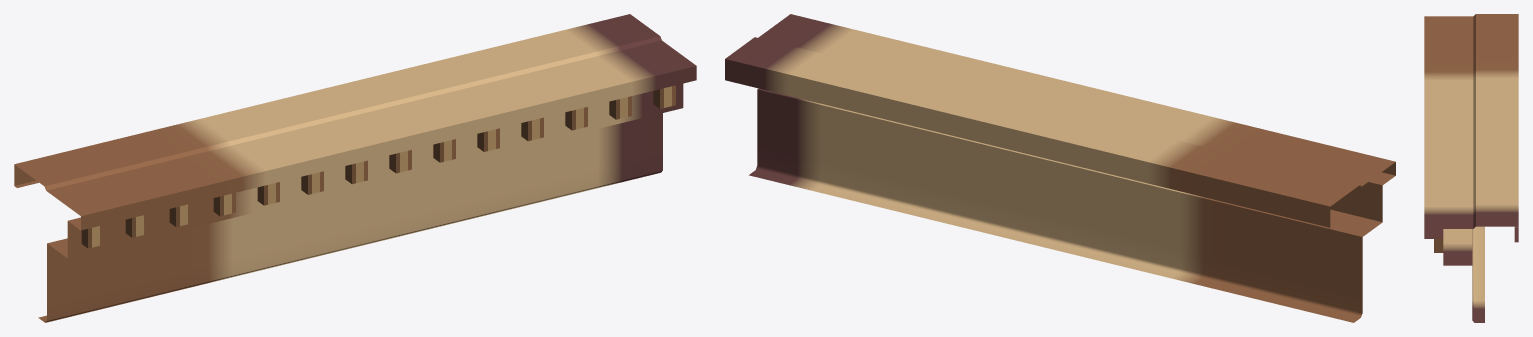
Rendered from DBK_Cornice_A_Full.fbx.
3 views of the same model, side by side, from view 1: azimuth 30°, elevation 25°; view 2: azimuth 150°, elevation 25°; view 3: azimuth 270°, elevation 25° (orthographic). The views are drawn at different scales.
Parts seen in each view (by area): view 1: DBK_Cornice_A_Full; view 2: DBK_Cornice_A_Full; view 3: DBK_Cornice_A_Full.
Boxes of the visible parts, <box> form: DBK_Cornice_A_Full: <box>14,14,696,322</box>; DBK_Cornice_A_Full: <box>725,14,1395,322</box>; DBK_Cornice_A_Full: <box>1424,14,1518,322</box>.
Bounding box in the file's own units: 300 × 63.25 × 56.29.
